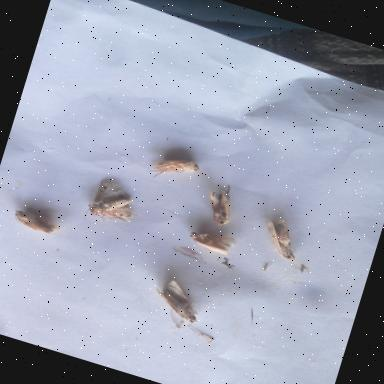abw: (140, 272, 232, 348), (72, 170, 146, 238), (140, 144, 208, 196), (250, 208, 310, 266), (6, 197, 70, 242), (194, 178, 242, 230), (180, 221, 240, 260)
